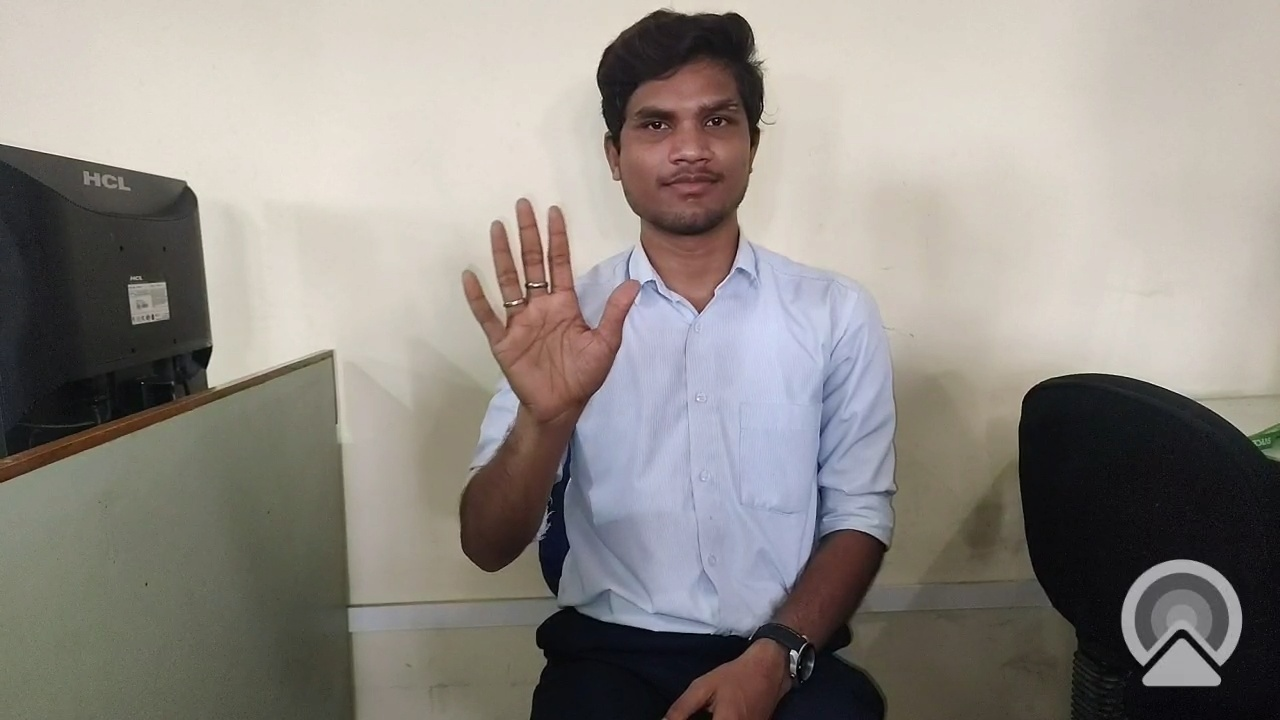Hello: (444, 193, 662, 454)
